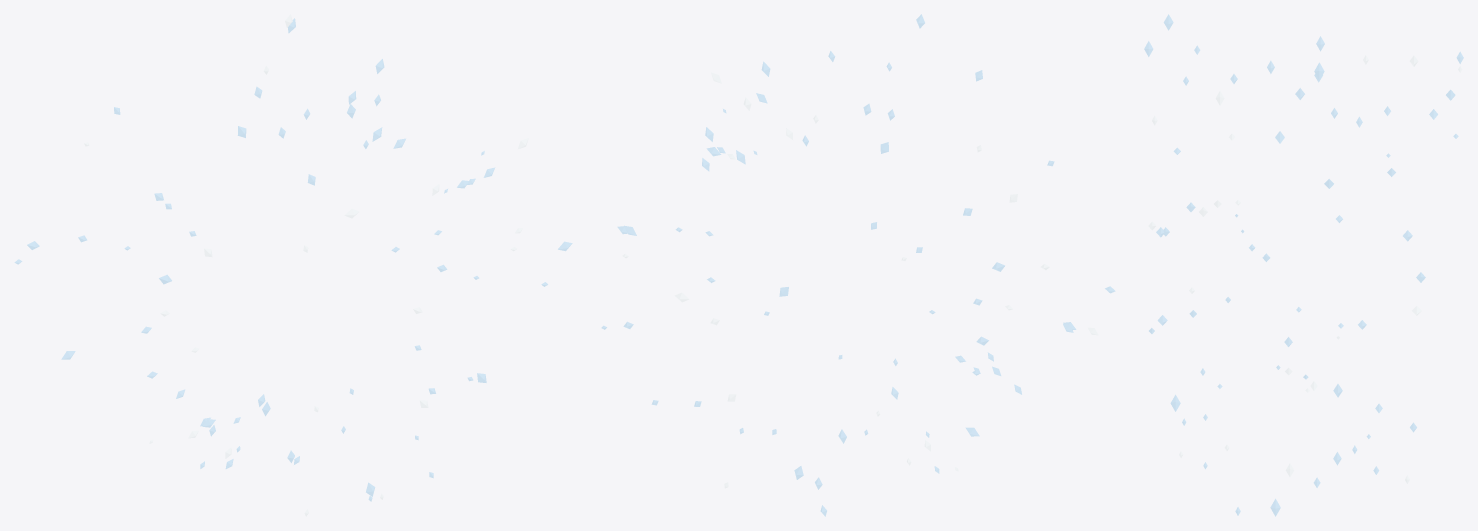
Rendered from Place_Burst.glb.
3 renders of one model, left to right at view 1: azimuth 30°, elevation 25°; view 2: azimuth 150°, elevation 25°; view 3: azimuth 270°, elevation 25°, orthographic. The views are drawn at different scales.
Visible parts, largest first — view 1: Place_Burst; view 2: Place_Burst; view 3: Place_Burst.
Boxes of the visible parts, bbox=[...] form: Place_Burst: bbox=[14, 14, 572, 516]; Place_Burst: bbox=[601, 14, 1115, 516]; Place_Burst: bbox=[1144, 14, 1463, 516].
Bounding box in the file's own units: 0.0996 × 0.0986 × 0.0614.
